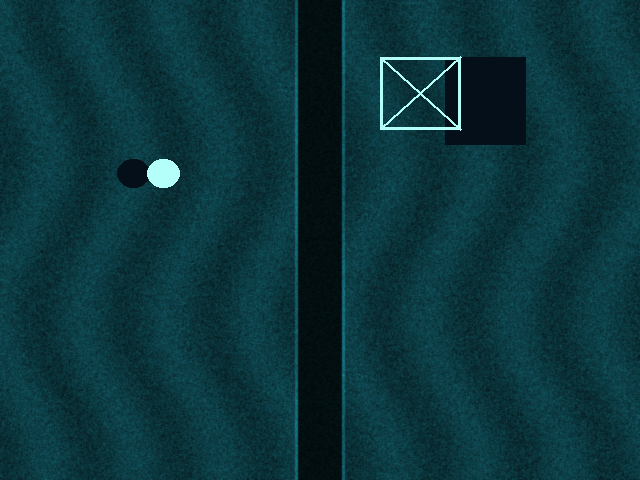Abandoned Equipment: (380, 57, 460, 129)
Glass Debris: (147, 159, 179, 187)
